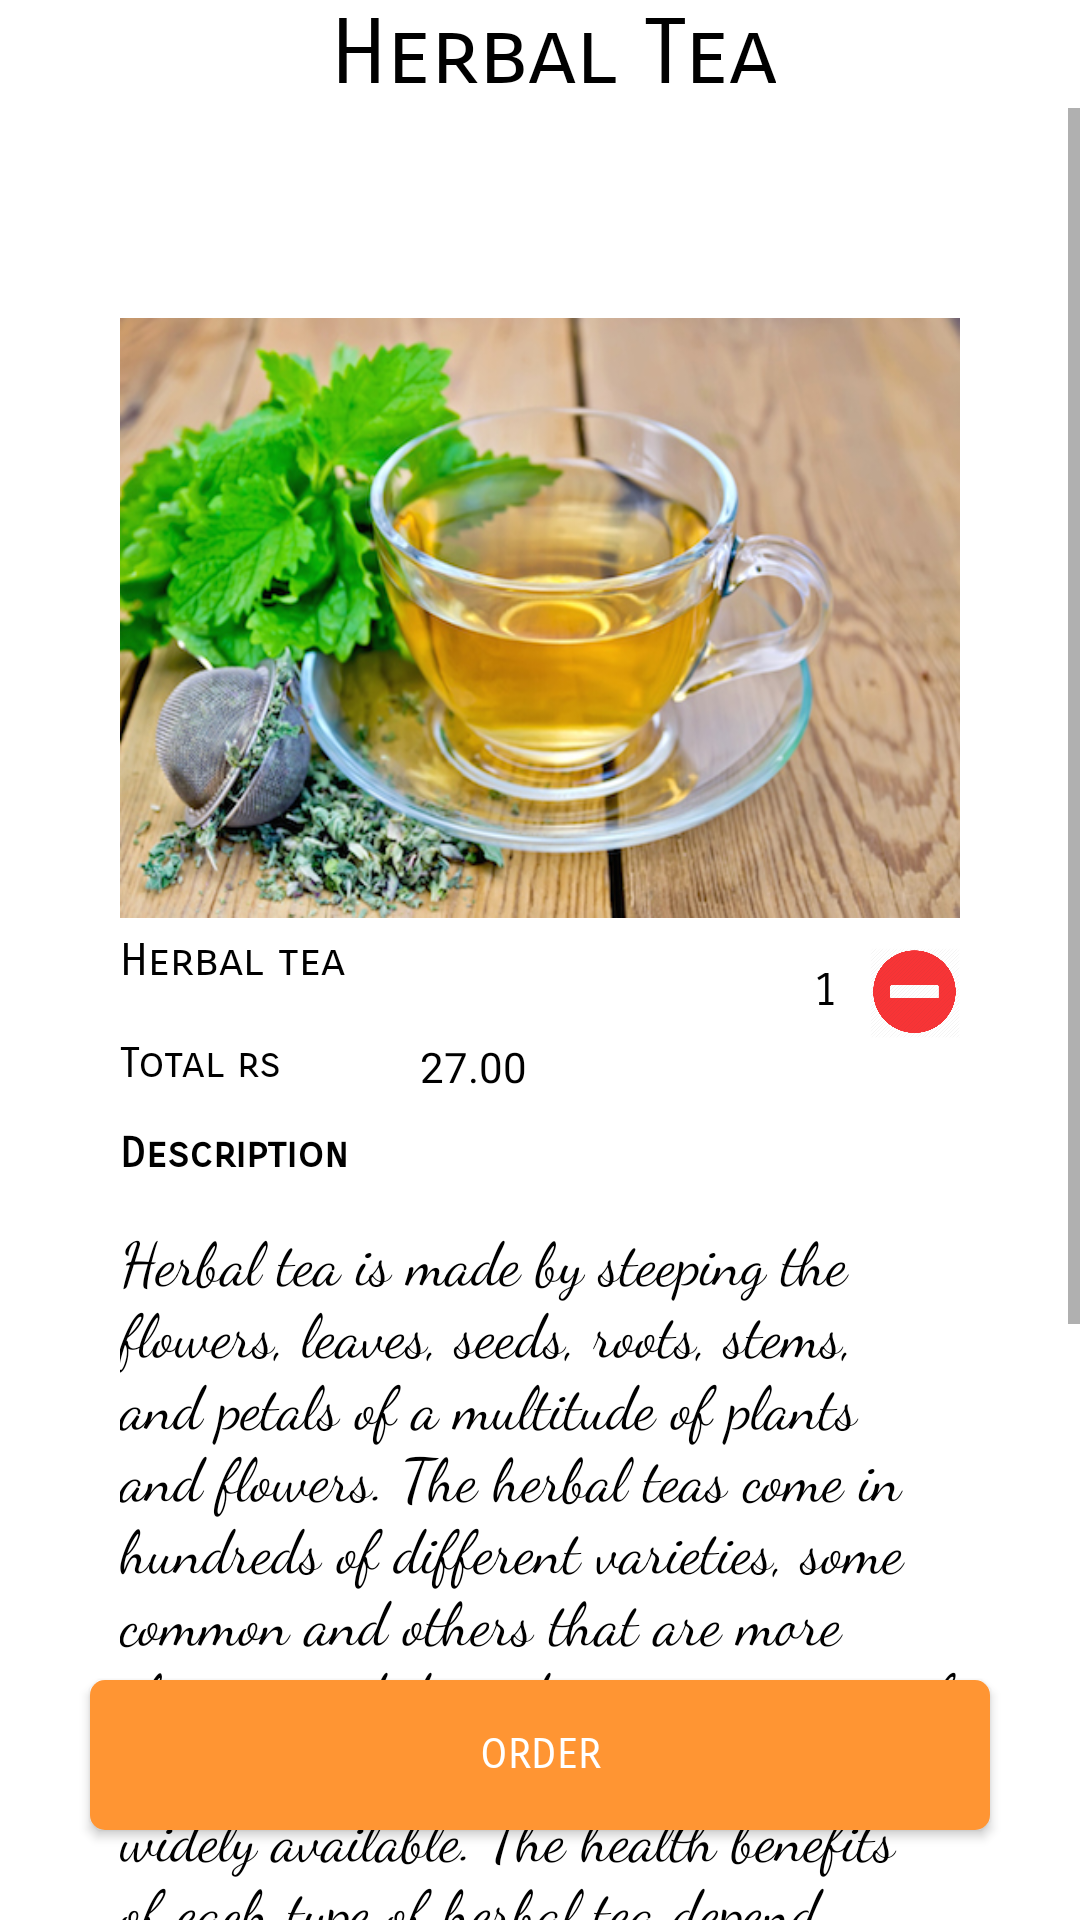

Icons on this 1080 × 1920 Android screen, each with its box as (left=x1, top=y1, right=x2, bottom=y2):
minus: (left=873, top=950, right=956, bottom=1033)
